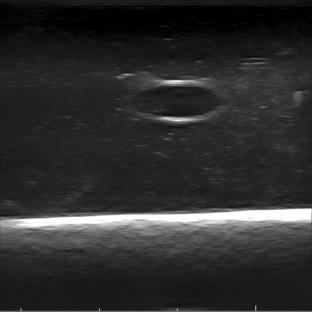vessel: (130, 78, 224, 123)
